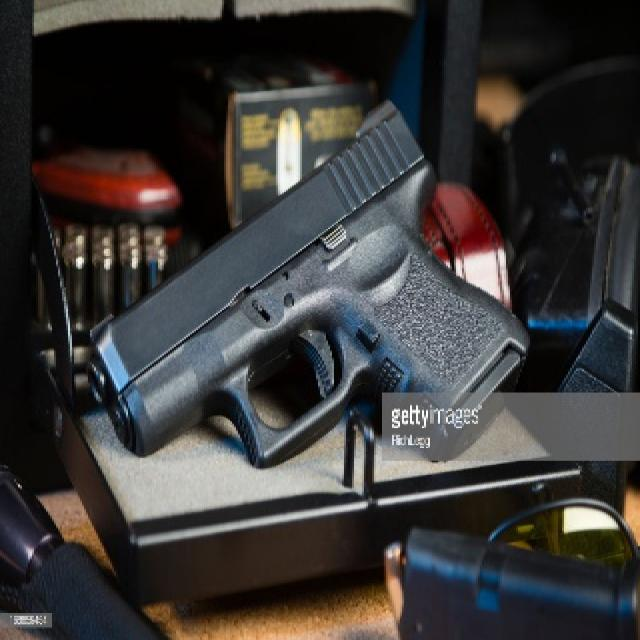handgun: (69, 74, 563, 465)
